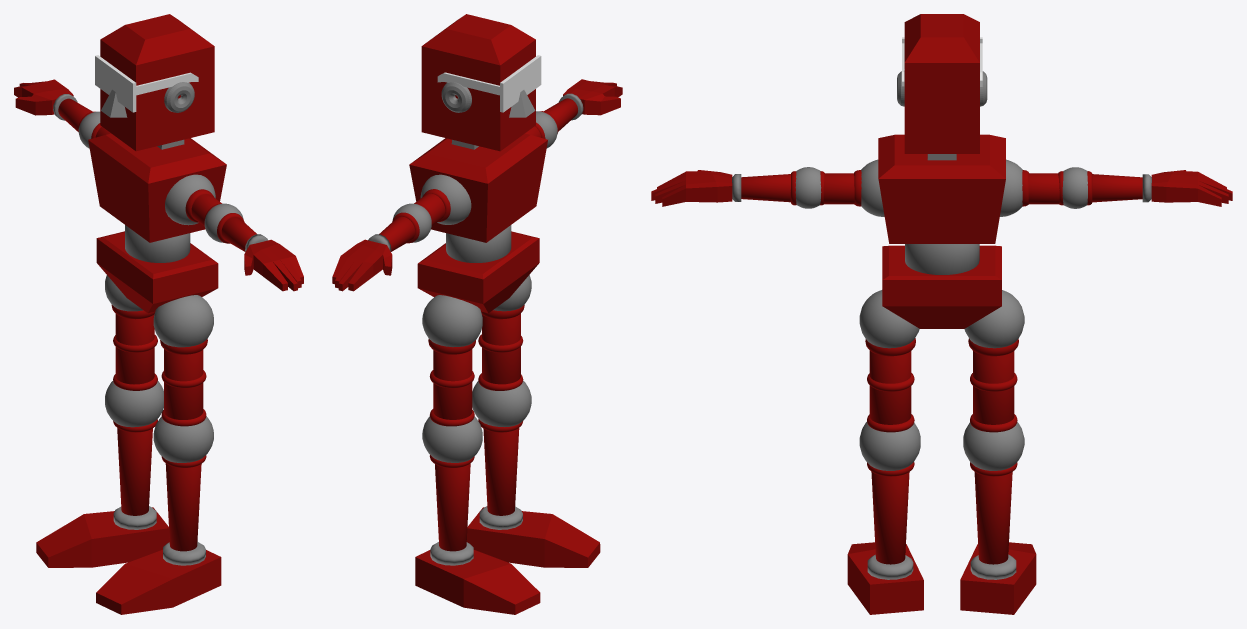
File: RadianRobot_v04.gltf
3 renders of one model, left to right at view 1: azimuth 30°, elevation 25°; view 2: azimuth 150°, elevation 25°; view 3: azimuth 270°, elevation 25°, orthographic. The views are drawn at different scales.
Parts seen in each view (by area): view 1: Head, Torso, Hips, lFoot, rFoot, lLowerLeg, rLowerLeg, lHipJoint, lUpperLeg, rUpperLeg, lKnee, lHand (+15 smaller); view 2: Head, Torso, Hips, rFoot, lFoot, lLowerLeg, rLowerLeg, rHipJoint, rUpperLeg, lUpperLeg, rKnee, rHand (+15 smaller); view 3: Torso, Head, Hips, lFoot, rFoot, lLowerLeg, rLowerLeg, lUpperLeg, rUpperLeg, rHand, lHand, lKnee (+14 smaller).
Part boxes in pixels (x1=…): Head: x1=100, y1=14, x2=214, y2=151; Torso: x1=88, y1=133, x2=226, y2=242; Hips: x1=96, y1=231, x2=218, y2=313; lFoot: x1=96, y1=549, x2=221, y2=614; rFoot: x1=36, y1=507, x2=169, y2=567; lLowerLeg: x1=165, y1=463, x2=201, y2=551; rLowerLeg: x1=117, y1=428, x2=152, y2=515; lHipJoint: x1=153, y1=295, x2=213, y2=347; lUpperLeg: x1=164, y1=349, x2=203, y2=419; rUpperLeg: x1=115, y1=314, x2=154, y2=384; lKnee: x1=153, y1=416, x2=213, y2=462; lHand: x1=244, y1=239, x2=303, y2=291; Head: x1=421, y1=14, x2=535, y2=151; Torso: x1=409, y1=133, x2=547, y2=242; Hips: x1=417, y1=231, x2=539, y2=313; rFoot: x1=415, y1=550, x2=540, y2=614; lFoot: x1=466, y1=507, x2=600, y2=567; lLowerLeg: x1=483, y1=428, x2=519, y2=515; rLowerLeg: x1=435, y1=463, x2=470, y2=551; rHipJoint: x1=422, y1=295, x2=482, y2=347; rUpperLeg: x1=433, y1=349, x2=472, y2=419; lUpperLeg: x1=482, y1=313, x2=520, y2=384; rKnee: x1=422, y1=416, x2=482, y2=462; rHand: x1=332, y1=239, x2=392, y2=291; Torso: x1=878, y1=134, x2=1005, y2=243; Head: x1=904, y1=14, x2=979, y2=153; Hips: x1=882, y1=245, x2=1001, y2=328; lFoot: x1=847, y1=542, x2=923, y2=614; rFoot: x1=960, y1=542, x2=1036, y2=614; lLowerLeg: x1=871, y1=471, x2=909, y2=564; rLowerLeg: x1=974, y1=472, x2=1012, y2=564; lUpperLeg: x1=869, y1=350, x2=911, y2=424; rUpperLeg: x1=973, y1=351, x2=1014, y2=424; rHand: x1=1151, y1=170, x2=1232, y2=206; lHand: x1=651, y1=170, x2=732, y2=206; lKnee: x1=859, y1=422, x2=920, y2=470.
Bounding box in the file's own units: 2.84 × 11.75 × 10.79.
